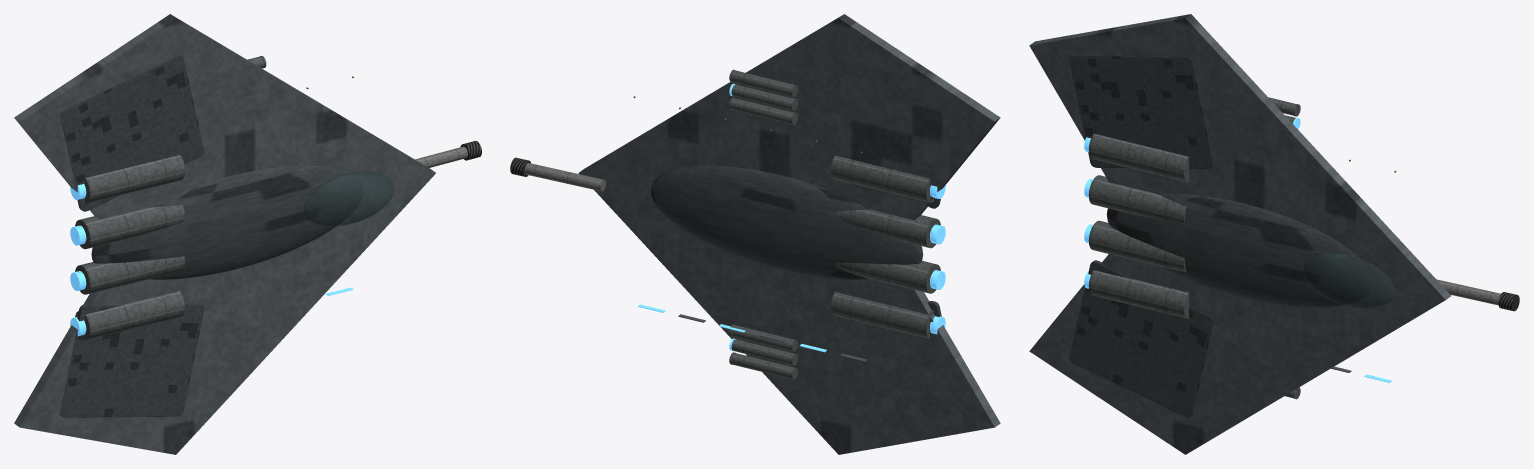
Rendered from s-u27-specter-heavy-bomber-lod0.glb.
3 renders of one model, left to right at view 1: azimuth 30°, elevation 25°; view 2: azimuth 150°, elevation 25°; view 3: azimuth 330°, elevation 25°, orthographic.
Parts seen in each view (by area): view 1: flying_wing_planform, flying_wing_core, flying_wing_elevon_1, flying_wing_elevon_-1, flying_wing_canopy, flying_wing_engine_0, flying_wing_engine_2, flying_wing_engine_3, flying_wing_engine_1, flying_wing_gun_barrel_0; view 2: flying_wing_planform, flying_wing_core, flying_wing_engine_0, flying_wing_engine_3, flying_wing_engine_2, flying_wing_engine_1, flying_wing_gun_barrel_0, flying_wing_-1_tube_2, flying_wing_1_tube_3, flying_wing_1_tube_2, flying_wing_-1_tube_1, flying_wing_1_tube_1 (+1 smaller); view 3: flying_wing_planform, flying_wing_core, flying_wing_elevon_1, flying_wing_elevon_-1, flying_wing_canopy, flying_wing_engine_0, flying_wing_engine_3, flying_wing_engine_2, flying_wing_engine_1, flying_wing_gun_barrel_0.
Boxes of the visible parts, x1=… form: flying_wing_planform: x1=14, y1=14, x2=435, y2=454; flying_wing_core: x1=91, y1=165, x2=363, y2=279; flying_wing_elevon_1: x1=60, y1=55, x2=204, y2=211; flying_wing_elevon_-1: x1=60, y1=304, x2=204, y2=417; flying_wing_canopy: x1=304, y1=171, x2=394, y2=226; flying_wing_engine_0: x1=75, y1=291, x2=184, y2=340; flying_wing_engine_2: x1=75, y1=205, x2=184, y2=249; flying_wing_engine_3: x1=85, y1=155, x2=184, y2=203; flying_wing_engine_1: x1=75, y1=256, x2=184, y2=294; flying_wing_gun_barrel_0: x1=415, y1=146, x2=467, y2=167; flying_wing_planform: x1=578, y1=14, x2=1000, y2=454; flying_wing_core: x1=650, y1=165, x2=923, y2=279; flying_wing_engine_0: x1=831, y1=292, x2=933, y2=338; flying_wing_engine_3: x1=831, y1=155, x2=933, y2=202; flying_wing_engine_2: x1=834, y1=209, x2=940, y2=248; flying_wing_engine_1: x1=834, y1=261, x2=940, y2=293; flying_wing_gun_barrel_0: x1=524, y1=163, x2=606, y2=191; flying_wing_-1_tube_2: x1=731, y1=339, x2=797, y2=365; flying_wing_1_tube_3: x1=731, y1=70, x2=797, y2=96; flying_wing_1_tube_2: x1=731, y1=84, x2=797, y2=110; flying_wing_-1_tube_1: x1=731, y1=353, x2=797, y2=379; flying_wing_1_tube_1: x1=731, y1=98, x2=797, y2=124; flying_wing_planform: x1=1029, y1=14, x2=1451, y2=454; flying_wing_core: x1=1106, y1=193, x2=1373, y2=307; flying_wing_elevon_1: x1=1069, y1=55, x2=1213, y2=168; flying_wing_elevon_-1: x1=1069, y1=260, x2=1213, y2=417; flying_wing_canopy: x1=1303, y1=253, x2=1394, y2=308; flying_wing_engine_0: x1=1088, y1=270, x2=1189, y2=318; flying_wing_engine_3: x1=1088, y1=133, x2=1189, y2=182; flying_wing_engine_2: x1=1088, y1=175, x2=1186, y2=223; flying_wing_engine_1: x1=1088, y1=220, x2=1186, y2=272; flying_wing_gun_barrel_0: x1=1436, y1=279, x2=1500, y2=305.
Size of what is drawn, in the model's own units: 18.53 by 16.37 by 1.95.
7 materials, 7 textured.
